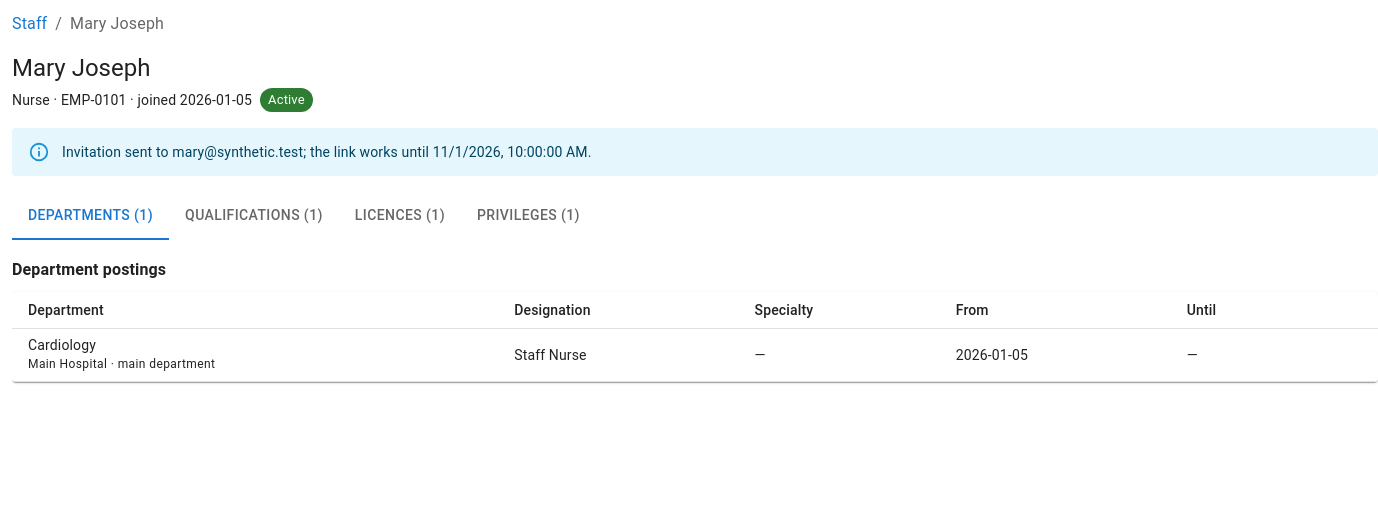
Test: Clinical privileges (HIMS-STAFF-016) › lists what the person holds and counts only active ones on the tab
Click the tab "Privileges (1)" at (528, 216), box 461,192 -> 596,240
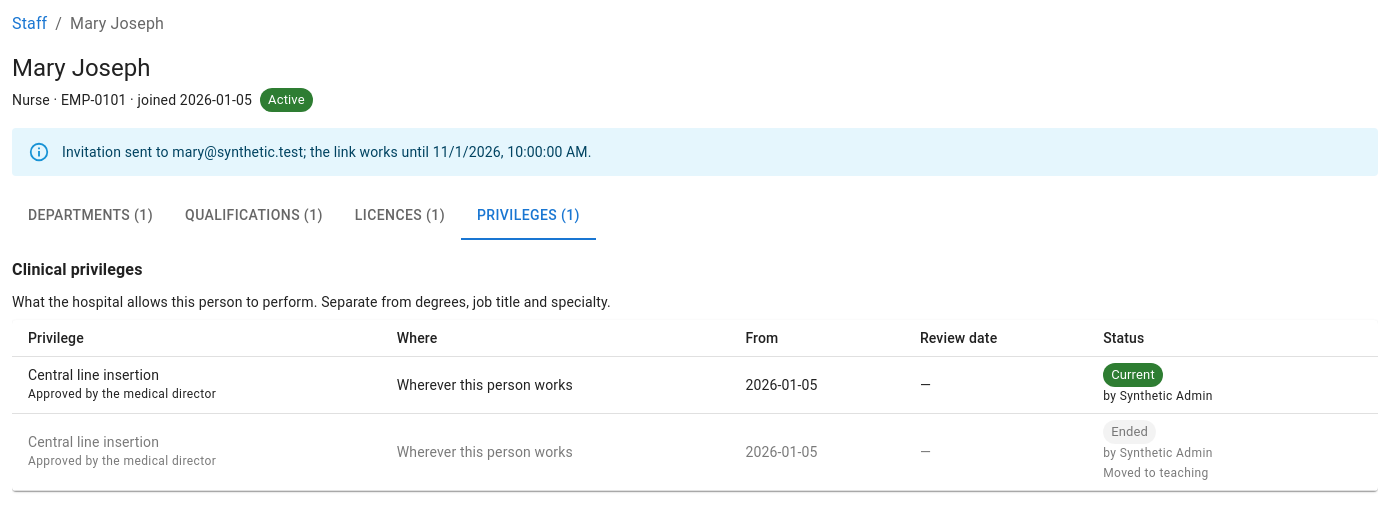
Expected: the table named "Clinical privileges" shows "Central line insertion", 28,367 -> 159,383
Expected: the table named "Clinical privileges" shows "Approved by the medical director", 28,387 -> 216,401
Expected: the table named "Clinical privileges" shows "Moved to teaching", 1103,466 -> 1209,480
